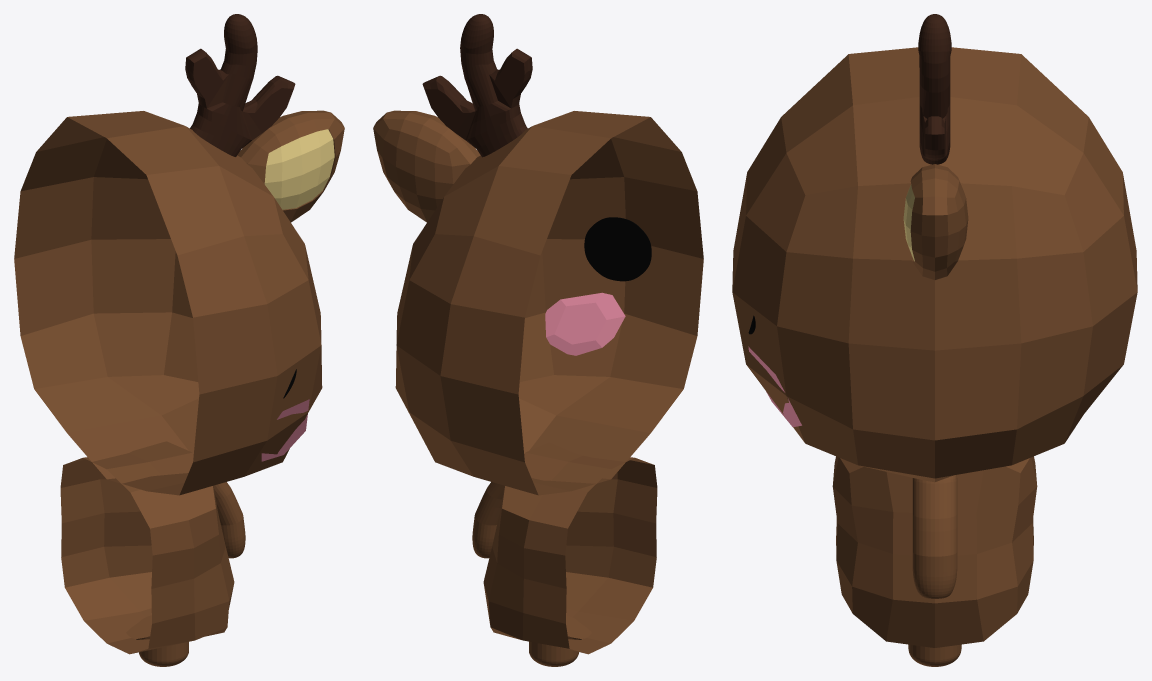
File: Deer Final.glb
3 views of the same model, side by side, from view 1: azimuth 30°, elevation 25°; view 2: azimuth 150°, elevation 25°; view 3: azimuth 270°, elevation 25° (orthographic). The views are drawn at different scales.
Parts seen in each view (by area): view 1: Cube, Cube.001, Cylinder.002, Cube.002, Cylinder.001, Cylinder, Plane.001; view 2: Cube, Cube.001, Cylinder.002, Cube.002, Plane.001, Plane.002, Cylinder.001, Cylinder; view 3: Cube, Cube.001, Cube.002, Cylinder.001, Cylinder.002, Cylinder.
Boxes of the visible parts, <box> form: Cube: <box>14,111,322,495</box>; Cube.001: <box>60,441,234,654</box>; Cylinder.002: <box>185,14,295,156</box>; Cube.002: <box>237,110,344,222</box>; Cylinder.001: <box>213,482,245,558</box>; Cylinder: <box>126,615,188,666</box>; Plane.001: <box>261,399,309,461</box>; Cube: <box>395,111,703,495</box>; Cube.001: <box>483,442,657,654</box>; Cylinder.002: <box>422,14,532,157</box>; Cube.002: <box>373,110,480,222</box>; Plane.001: <box>545,292,625,355</box>; Plane.002: <box>584,217,651,281</box>; Cylinder.001: <box>472,482,504,558</box>; Cylinder: <box>529,615,591,666</box>; Cube: <box>732,47,1137,482</box>; Cube.001: <box>832,456,1037,647</box>; Cube.002: <box>903,164,968,279</box>; Cylinder.001: <box>912,475,957,598</box>; Cylinder.002: <box>918,14,951,164</box>; Cylinder: <box>908,644,961,666</box>.
Size of the model in its own units: 2.89 by 7.38 by 3.97.
